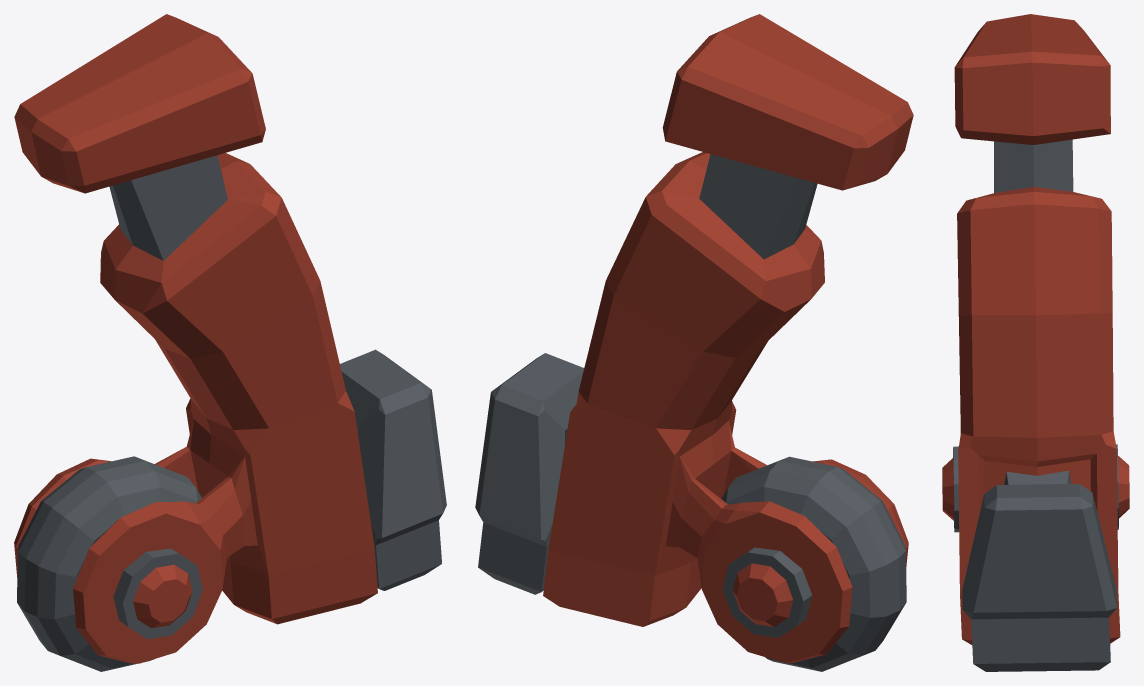
The model's file is Dropship_01_Lander_Red.fbx.
3 renders of one model, left to right at view 1: azimuth 30°, elevation 25°; view 2: azimuth 150°, elevation 25°; view 3: azimuth 270°, elevation 25°, orthographic. The views are drawn at different scales.
Parts seen in each view (by area): view 1: Dropship_01_Lander_Red; view 2: Dropship_01_Lander_Red; view 3: Dropship_01_Lander_Red.
Boxes of the visible parts, <box> form: Dropship_01_Lander_Red: <box>14,14,446,671</box>; Dropship_01_Lander_Red: <box>475,14,913,671</box>; Dropship_01_Lander_Red: <box>942,14,1129,671</box>.
Bounding box in the file's own units: 269 × 402 × 120.
Materials: 1 (1 with a texture image).
